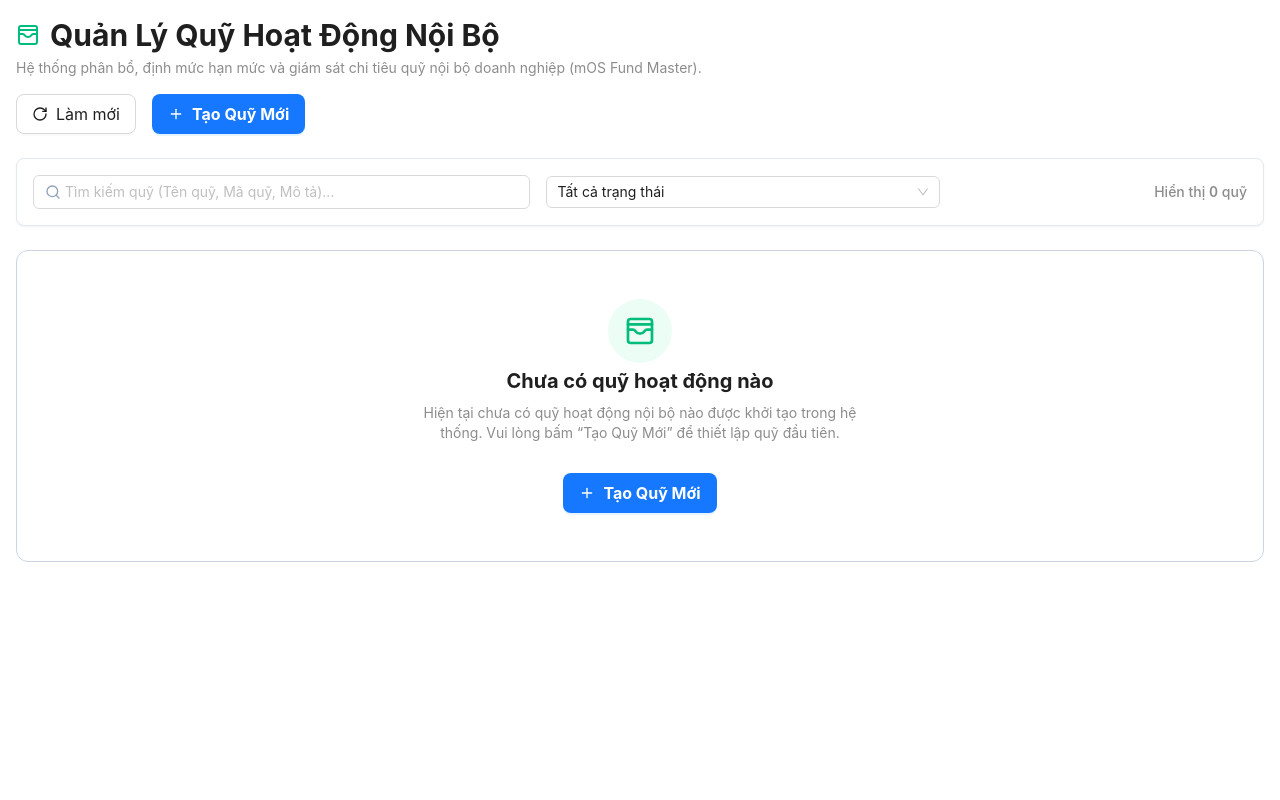
Test case: FundsManagementPage Component (MOS-BUG-174 Step 1) › opens 4-tab creation modal when clicking Tạo Quỹ Mới (MOS-FEAT-177 Step 2)
Check: the heading "Chưa có quỹ hoạt động nào" is shown, box [506,369,774,393]
Click the button "Tạo Quỹ Mới" below "Quản Lý Quỹ Hoạt Động Nội Bộ" at (229, 114), box [152,94,305,134]
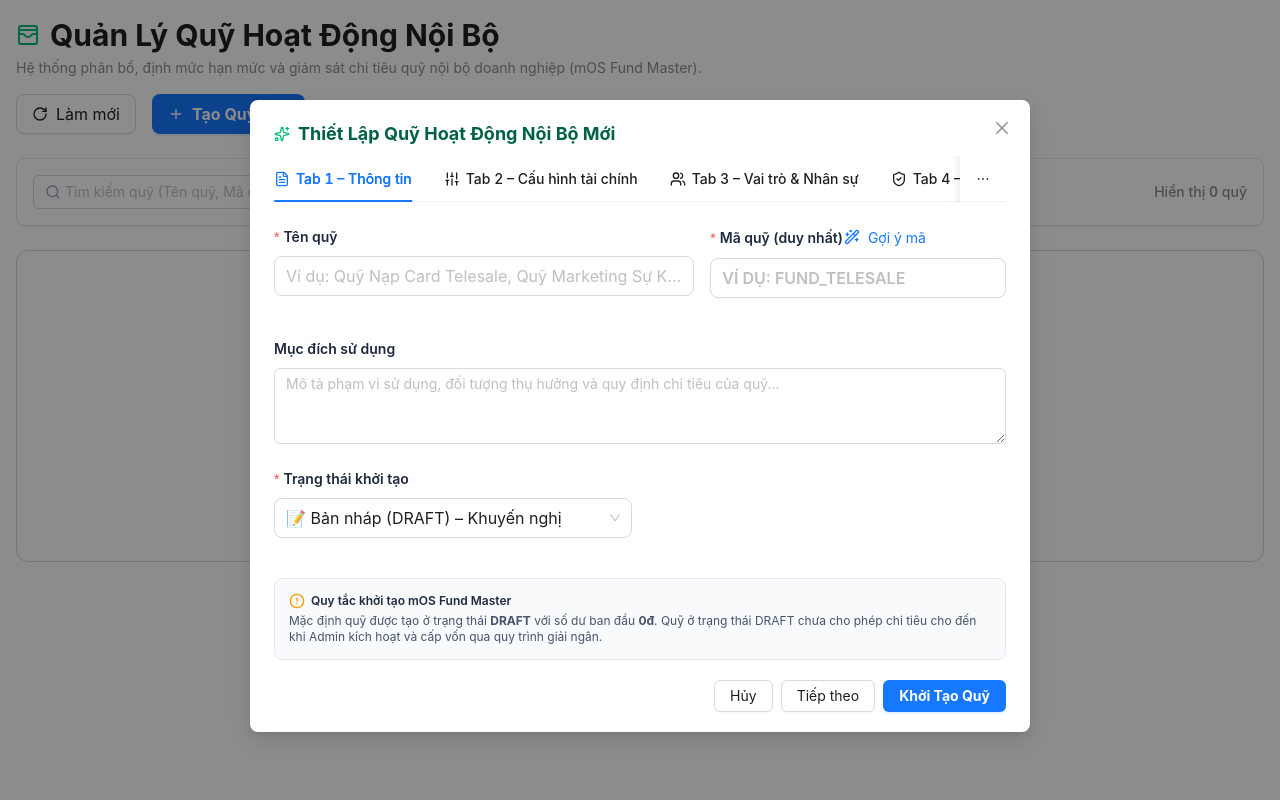
Check: the text "Thiết Lập Quỹ Hoạt Động Nội Bộ Mới" is shown, box [298,120,616,148]
Check: the text "Tab 1 – Thông tin" is shown, box [296,168,412,190]
Check: the text "Tab 2 – Cấu hình tài chính" is shown, box [466,168,638,190]
